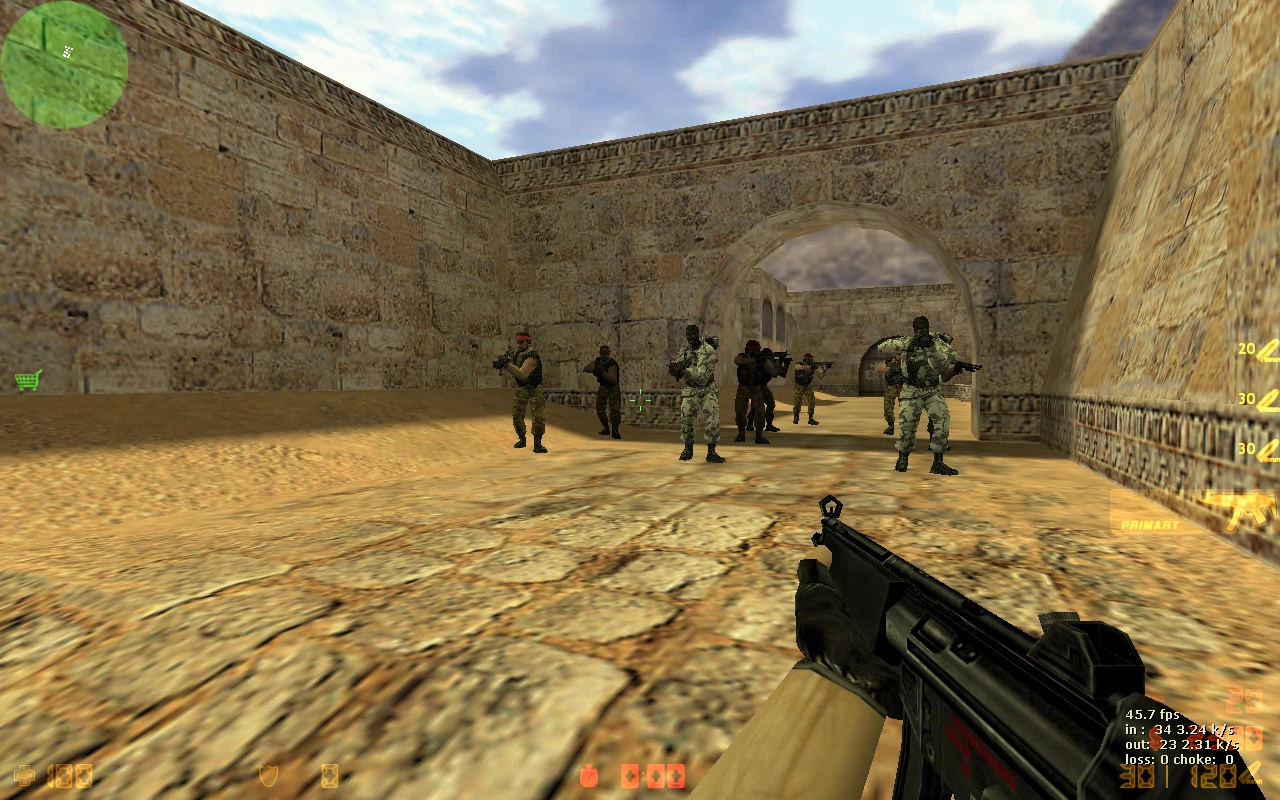terr1: (499, 332, 551, 453), (735, 342, 775, 446), (588, 346, 626, 442), (795, 353, 817, 425)
terr2: (881, 318, 969, 472), (669, 326, 726, 467)
